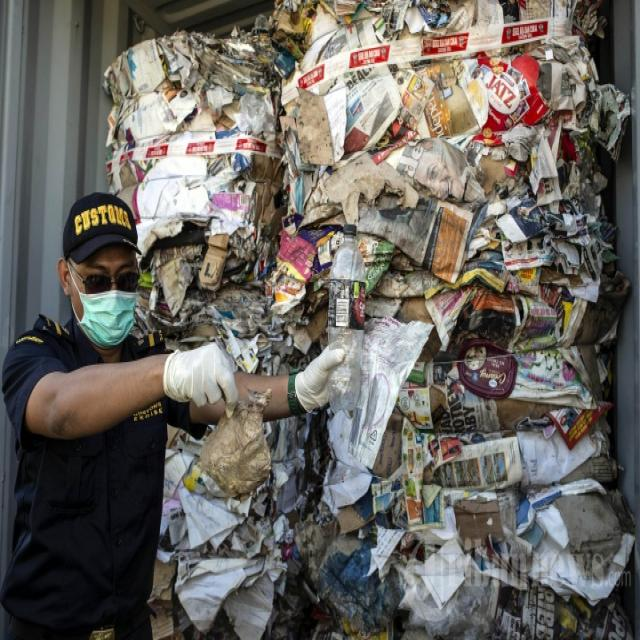Kertas: (96, 36, 602, 333)
